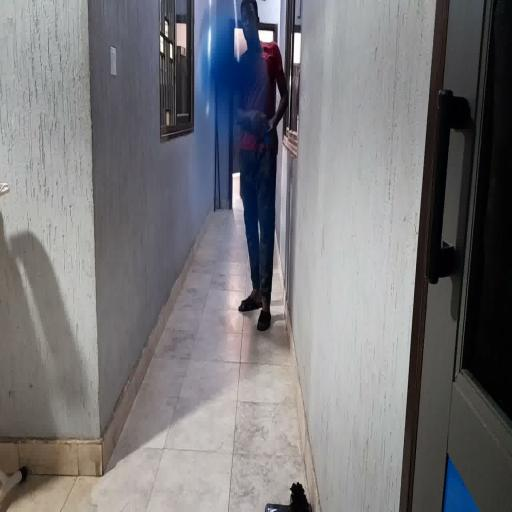plastic-ball: (195, 16, 268, 150)
